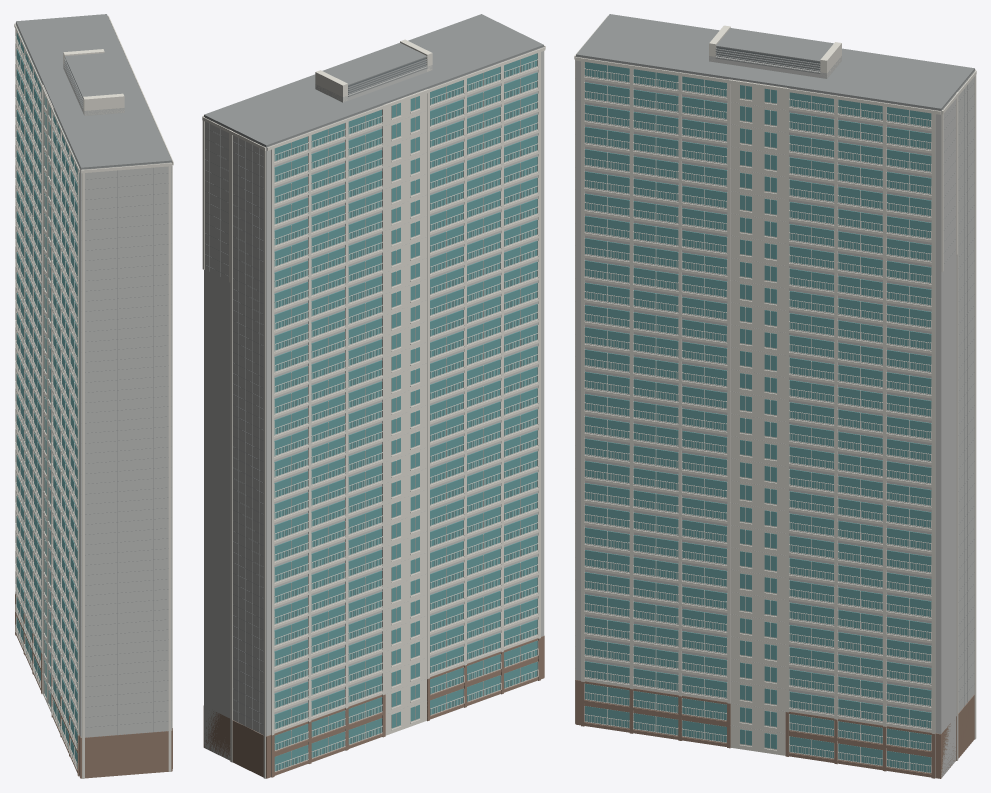
The model's file is bespoke-jamsil-els-158.glb.
3 renders of one model, left to right at view 1: azimuth 30°, elevation 25°; view 2: azimuth 150°, elevation 25°; view 3: azimuth 270°, elevation 25°, orthographic. The views are drawn at different scales.
Visible parts, largest first — view 1: Els158_editable_Els158_light_grey_solid_wall, Els158_editable_Els158_turquoise_balcony_glazing, Els158_editable_Els158_modest_grey_flat_roof_caps, Els158_white_exact_chunk_0, Els158_white_exact_chunk_3, Els158_white_exact_chunk_1, Els158_white_exact_chunk_2, Els158_editable_Els158_muted_ground_wall, Els158_white_exact_chunk_6, Els158_white_exact_chunk_4; view 2: Els158_editable_Els158_turquoise_balcony_glazing, Els158_editable_Els158_light_grey_solid_wall, Els158_white_exact_chunk_0, Els158_white_exact_chunk_1, Els158_white_exact_chunk_2, Els158_editable_Els158_modest_grey_flat_roof_caps, Els158_white_exact_chunk_3, Els158_editable_Els158_muted_ground_wall, Els158_editable_Shared-wall_clipped_surface_0006, Els158_white_exact_chunk_6, Els158_editable_Shared-wall_clipped_surface_1005; view 3: Els158_editable_Els158_turquoise_balcony_glazing, Els158_editable_Els158_light_grey_solid_wall, Els158_white_exact_chunk_3, Els158_white_exact_chunk_4, Els158_white_exact_chunk_6, Els158_white_exact_chunk_5, Els158_editable_Els158_modest_grey_flat_roof_caps, Els158_editable_Els158_muted_ground_wall, Els158_editable_Shared-wall_clipped_surface_1005, Els158_editable_Shared-wall_clipped_surface_0006, Els158_white_exact_chunk_0.
Part boxes in pixels (x1=…): Els158_editable_Els158_light_grey_solid_wall: x1=16, y1=23, x2=171, y2=737; Els158_editable_Els158_turquoise_balcony_glazing: x1=16, y1=30, x2=79, y2=767; Els158_editable_Els158_modest_grey_flat_roof_caps: x1=16, y1=14, x2=171, y2=737; Els158_white_exact_chunk_0: x1=15, y1=22, x2=53, y2=713; Els158_white_exact_chunk_3: x1=14, y1=23, x2=172, y2=778; Els158_white_exact_chunk_1: x1=15, y1=25, x2=60, y2=730; Els158_white_exact_chunk_2: x1=51, y1=113, x2=77, y2=769; Els158_editable_Els158_muted_ground_wall: x1=15, y1=594, x2=172, y2=778; Els158_white_exact_chunk_6: x1=63, y1=15, x2=173, y2=165; Els158_white_exact_chunk_4: x1=145, y1=100, x2=172, y2=729; Els158_editable_Els158_turquoise_balcony_glazing: x1=274, y1=53, x2=537, y2=771; Els158_editable_Els158_light_grey_solid_wall: x1=204, y1=47, x2=543, y2=760; Els158_white_exact_chunk_0: x1=230, y1=89, x2=427, y2=778; Els158_white_exact_chunk_1: x1=271, y1=105, x2=464, y2=776; Els158_white_exact_chunk_2: x1=430, y1=66, x2=538, y2=702; Els158_editable_Els158_modest_grey_flat_roof_caps: x1=204, y1=14, x2=543, y2=734; Els158_white_exact_chunk_3: x1=267, y1=45, x2=545, y2=705; Els158_editable_Els158_muted_ground_wall: x1=232, y1=635, x2=544, y2=778; Els158_editable_Shared-wall_clipped_surface_0006: x1=202, y1=116, x2=232, y2=762; Els158_white_exact_chunk_6: x1=202, y1=39, x2=432, y2=133; Els158_editable_Shared-wall_clipped_surface_1005: x1=203, y1=705, x2=230, y2=759; Els158_editable_Els158_turquoise_balcony_glazing: x1=585, y1=62, x2=931, y2=772; Els158_editable_Els158_light_grey_solid_wall: x1=576, y1=56, x2=974, y2=777; Els158_white_exact_chunk_3: x1=574, y1=16, x2=975, y2=755; Els158_white_exact_chunk_4: x1=581, y1=57, x2=834, y2=758; Els158_white_exact_chunk_6: x1=575, y1=25, x2=957, y2=777; Els158_white_exact_chunk_5: x1=789, y1=92, x2=882, y2=765; Els158_editable_Els158_modest_grey_flat_roof_caps: x1=576, y1=14, x2=974, y2=712; Els158_editable_Els158_muted_ground_wall: x1=575, y1=679, x2=974, y2=778; Els158_editable_Shared-wall_clipped_surface_1005: x1=576, y1=680, x2=956, y2=778; Els158_editable_Shared-wall_clipped_surface_0006: x1=941, y1=92, x2=958, y2=760; Els158_white_exact_chunk_0: x1=958, y1=70, x2=976, y2=739.
Size of the model in its own units: 25.53 by 85 by 45.07.
